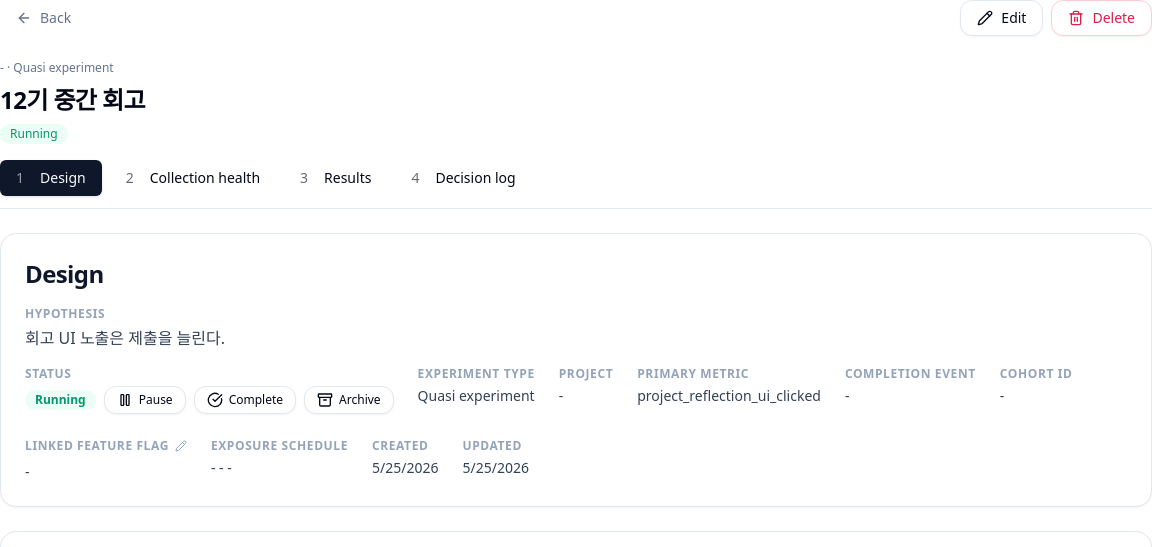
it: ExperimentDetail placements › keeps edited input and reports save failures in en
Click the 1st button "Edit" at (1002, 18), box [960, 0, 1044, 36]
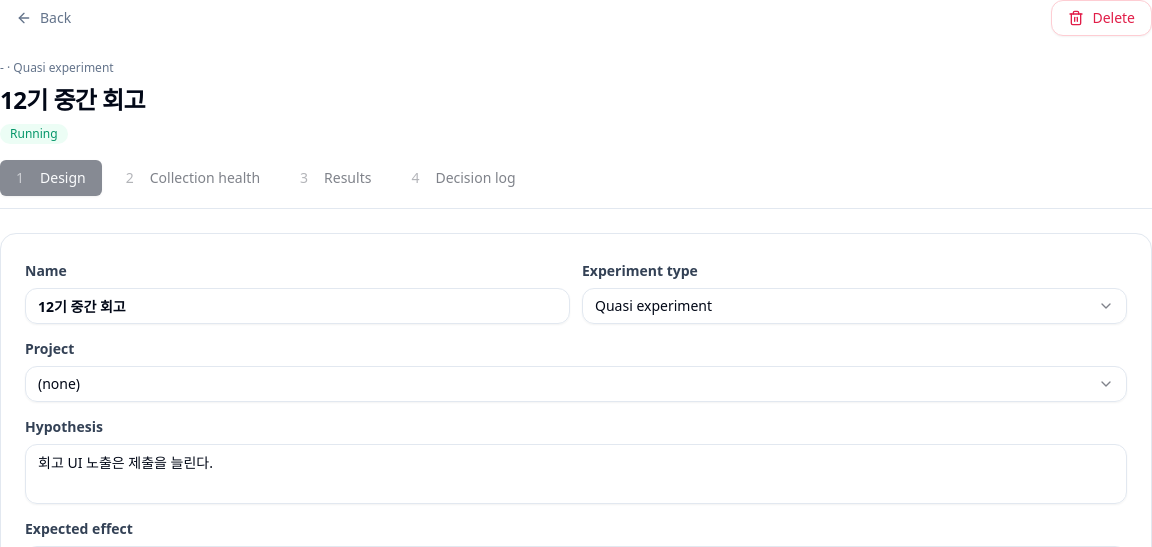
Replace the text in the field named "Name" with "Retry name" at (298, 306), box [25, 288, 570, 324]
(page scrolled)
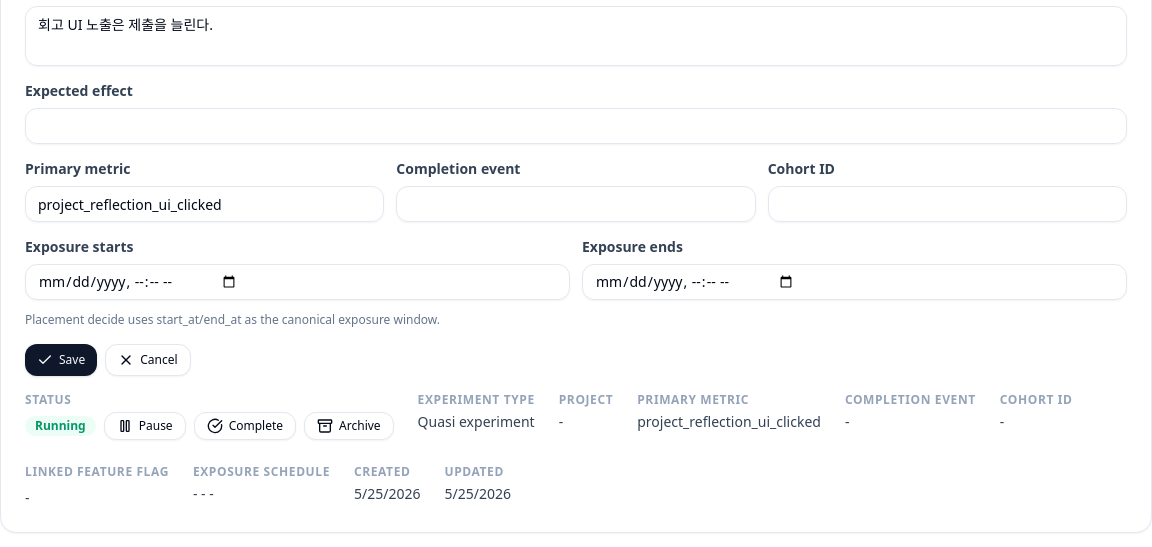
Click the button "Save" at (61, 360), box [25, 344, 97, 376]
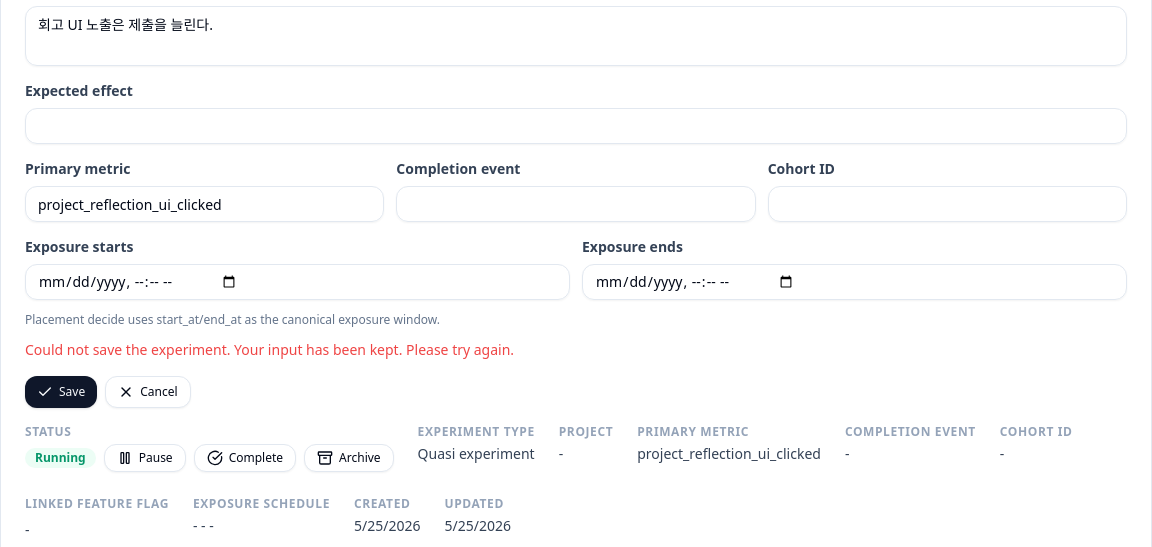
Expected: the message shows "Your input has been kept", [25, 340, 514, 359]
Click the button "Save" at (61, 392), box [25, 376, 97, 408]
(page scrolled)
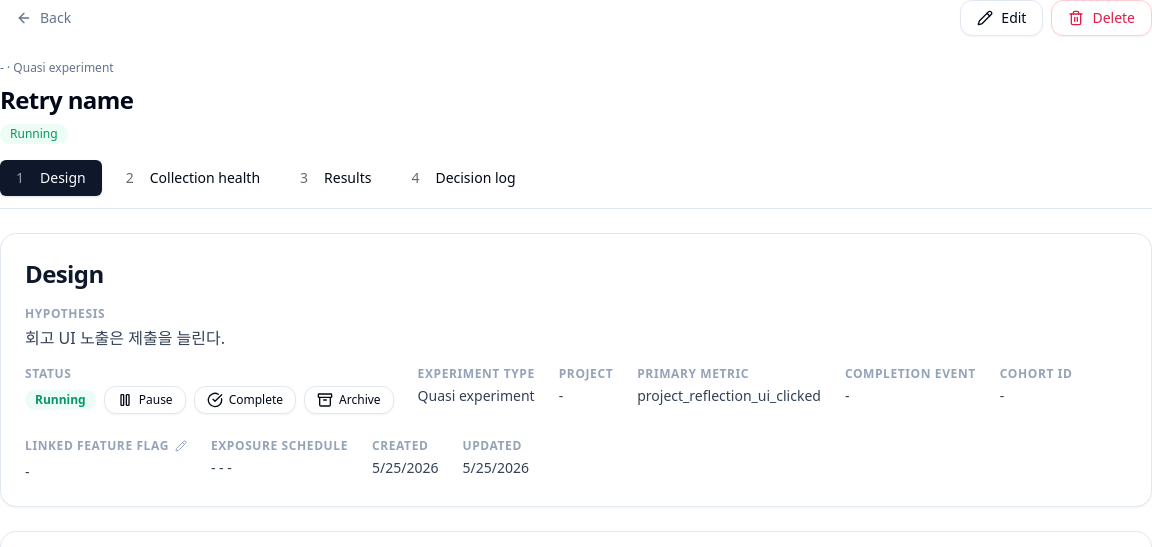
Expected: the heading "Retry name" is shown, [0, 83, 133, 116]
Expected: the message "Could not save the experiment. Your input has been kept. Please try again." is gone
